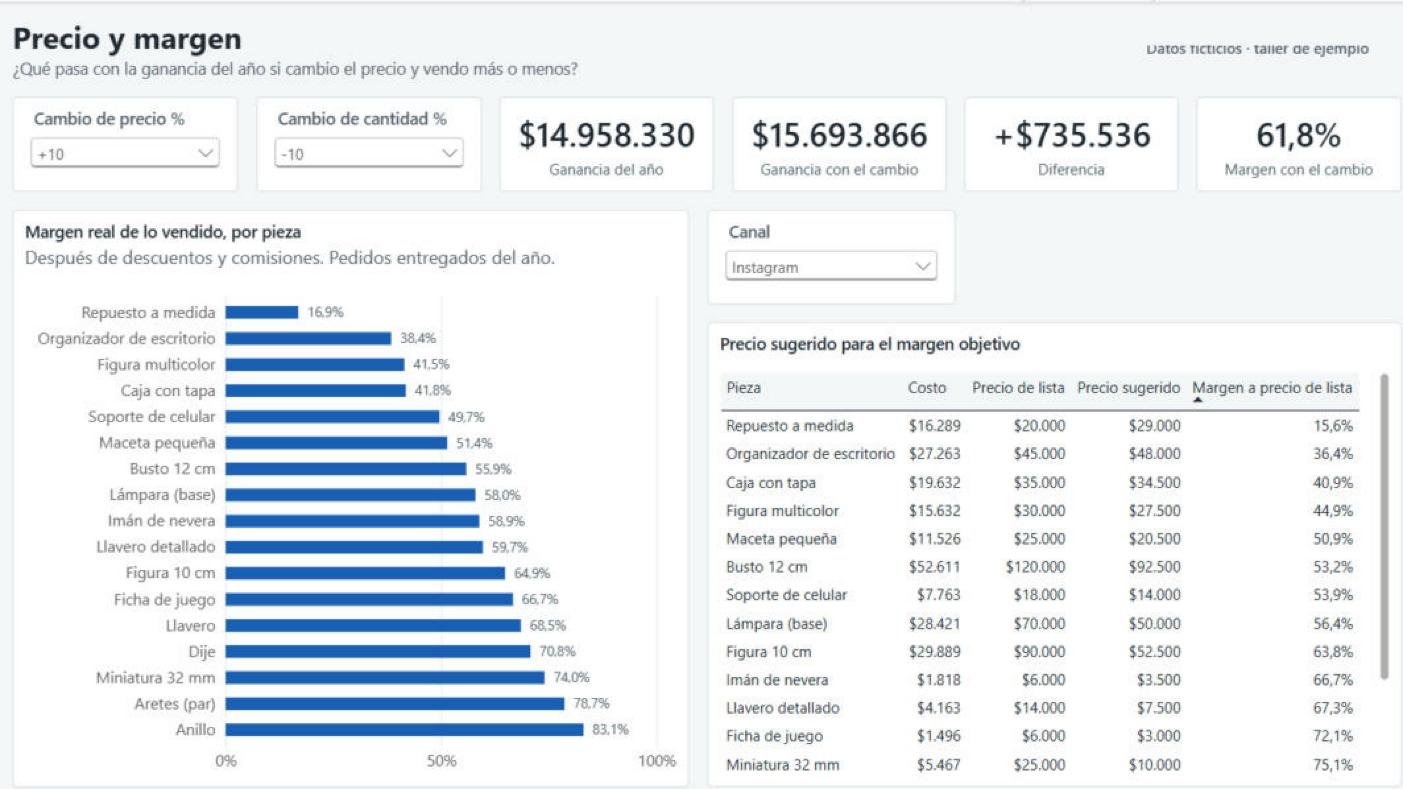

The dashboard page shown, as its layout file describes it:
{"tool":"powerbi","page":{"name":"Precio y margen","canvas":[1280,720],"ordinal":1},"visuals":[{"type":"textbox","box":[24,12,900,64],"z":0},{"type":"card","fields":{"Values":["Medidas.Origen de los datos"]},"box":[1000,12,256,56],"z":1000},{"type":"slicer","fields":{"Values":["Ajuste de precio.Ajuste de precio %"]},"box":[24,84,200,76],"z":2000},{"type":"slicer","fields":{"Values":["Ajuste de cantidad.Ajuste de cantidad %"]},"box":[240,84,200,76],"z":3000},{"type":"card","fields":{"Values":["Medidas.Ganancia"]},"box":[456,84,190,76],"z":4000},{"type":"card","fields":{"Values":["Medidas.Ganancia con ajuste"]},"box":[662,84,190,76],"z":5000},{"type":"card","fields":{"Values":["Medidas.Cambio en la ganancia"]},"box":[868,84,190,76],"z":6000},{"type":"card","fields":{"Values":["Medidas.Margen con ajuste %"]},"box":[1074,84,182,76],"z":7000},{"type":"clusteredBarChart","title":"Margen real de lo vendido, por pieza","fields":{"Category":["Piezas.nombre"],"Y":["Medidas.Margen %"]},"box":[24,176,600,520],"z":8000},{"type":"slicer","fields":{"Values":["Canal para precio.Canal"]},"box":[640,176,220,60],"z":9000},{"type":"tableEx","title":"Precio sugerido para el margen objetivo","fields":{"Values":["Piezas.nombre","Medidas.Costo por unidad","Medidas.Precio de lista","Medidas.Precio sugerido","Medidas.Margen a precio de lista"]},"box":[640,244,616,452],"z":10000}]}

Visuals, with their boxes in screenshot pixels (x1, y1, x2, y2), scaled from the page's 1280x720 canvas onto the 1403x789 screenshot:
textbox: 26:13:1013:83
card - Medidas.Origen de los datos: 1096:13:1377:75
slicer - Ajuste de precio.Ajuste de precio %: 26:92:246:175
slicer - Ajuste de cantidad.Ajuste de cantidad %: 263:92:482:175
card - Medidas.Ganancia: 500:92:708:175
card - Medidas.Ganancia con ajuste: 726:92:934:175
card - Medidas.Cambio en la ganancia: 951:92:1160:175
card - Medidas.Margen con ajuste %: 1177:92:1377:175
"Margen real de lo vendido, por pieza" clusteredBarChart: 26:193:684:763
slicer - Canal para precio.Canal: 702:193:943:259
"Precio sugerido para el margen objetivo" tableEx: 702:267:1377:763
